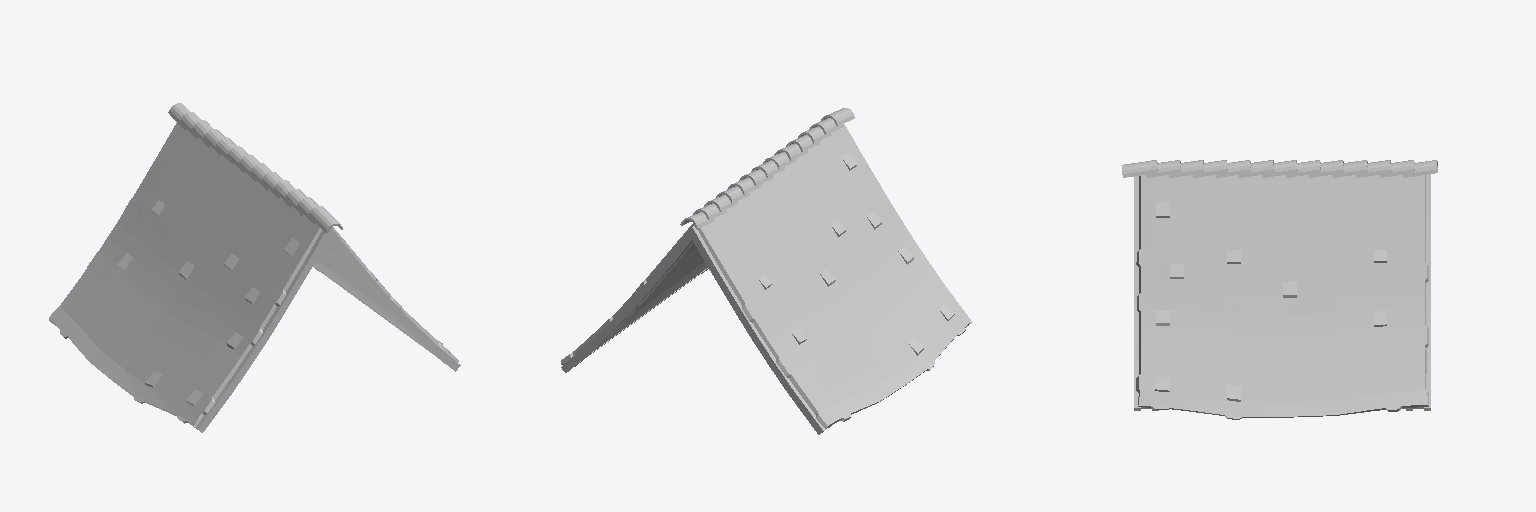
The model's file is Roof_FlatTiles_8x8.obj.
3 views of the same model, side by side, from view 1: azimuth 30°, elevation 25°; view 2: azimuth 150°, elevation 25°; view 3: azimuth 270°, elevation 25° (orthographic).
Parts seen in each view (by area): view 1: Roof_FlatTiles_8x8; view 2: Roof_FlatTiles_8x8; view 3: Roof_FlatTiles_8x8.
Boxes of the visible parts, box(x1,y1,x2,y2) form: Roof_FlatTiles_8x8: box(49, 103, 460, 432); Roof_FlatTiles_8x8: box(561, 108, 972, 434); Roof_FlatTiles_8x8: box(1122, 160, 1437, 419).
Bounding box in the file's own units: 10.71 × 6.86 × 10.33.